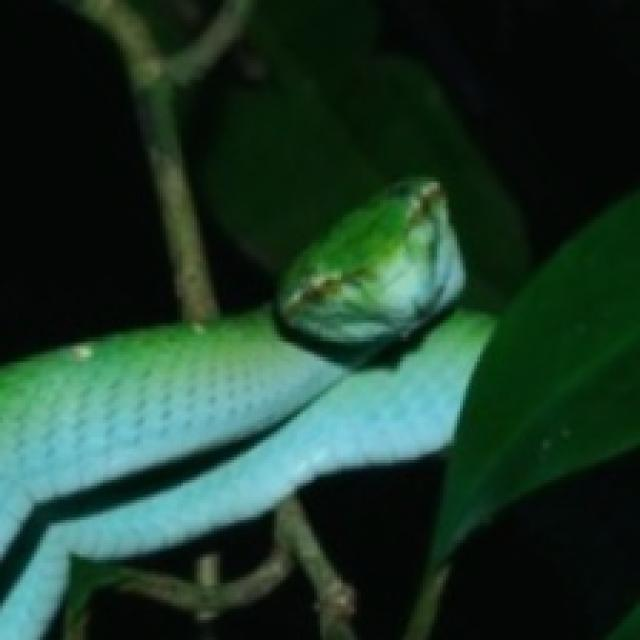north ph temple pitviper: (0, 177, 491, 637)
